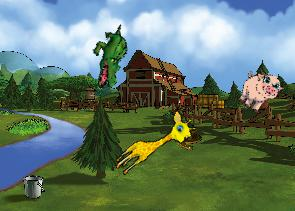crocodile: (88, 24, 133, 89)
giraffe: (110, 106, 200, 185)
pig: (232, 64, 286, 119)
